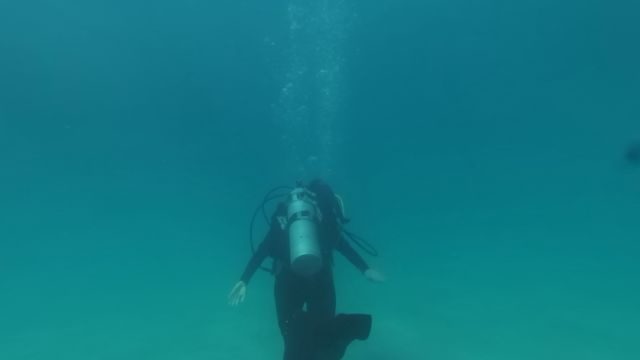Hand: (354, 257, 394, 291), (219, 276, 255, 311)
